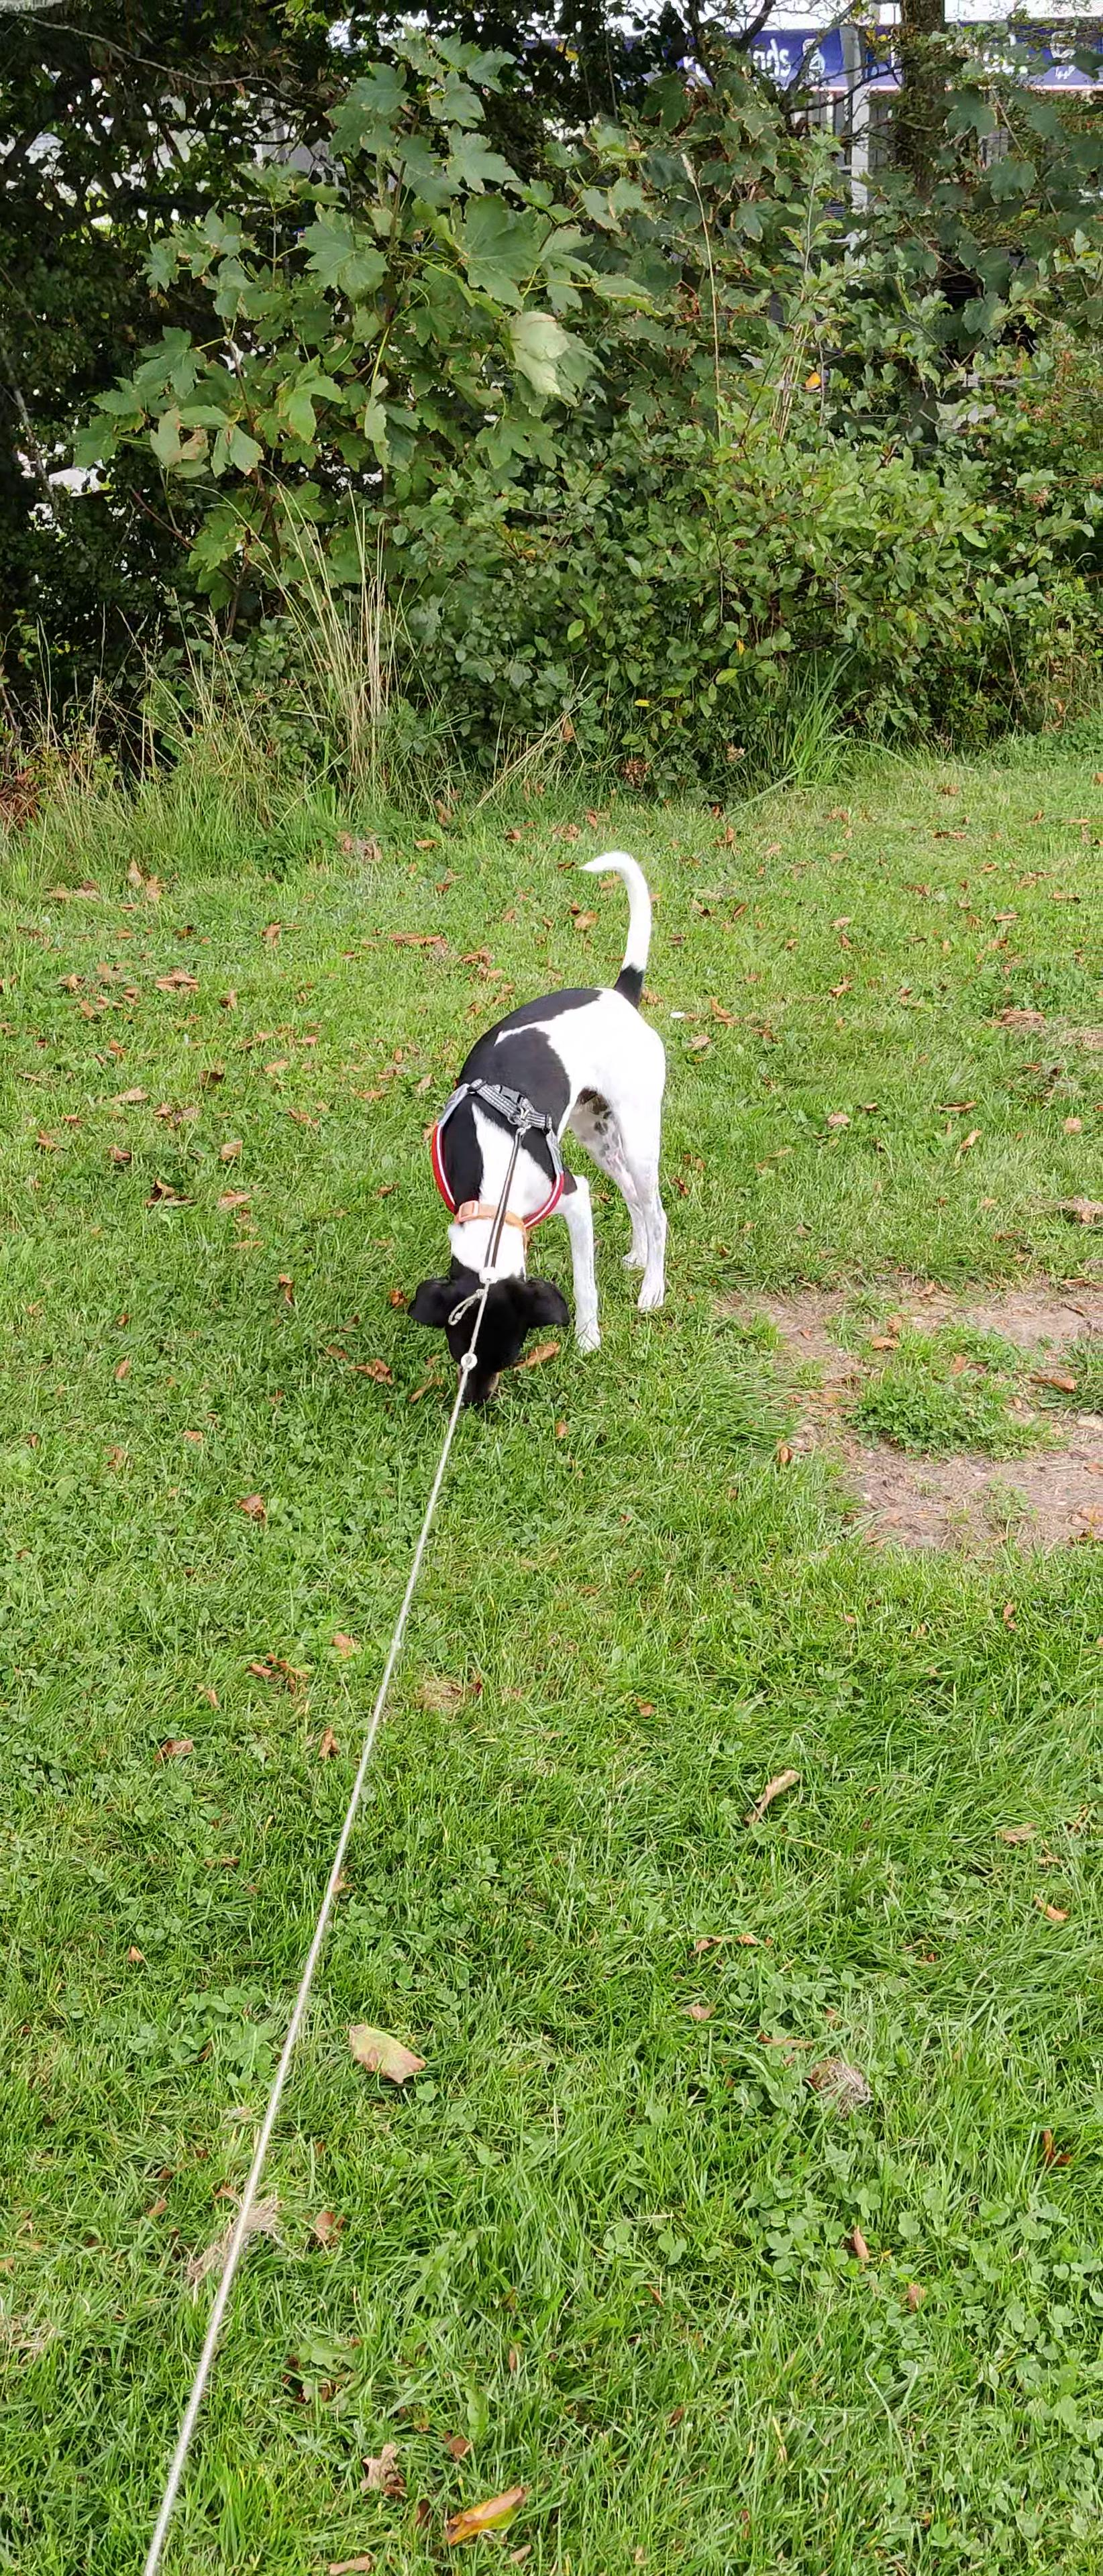Dog: (386, 839, 687, 1437)
